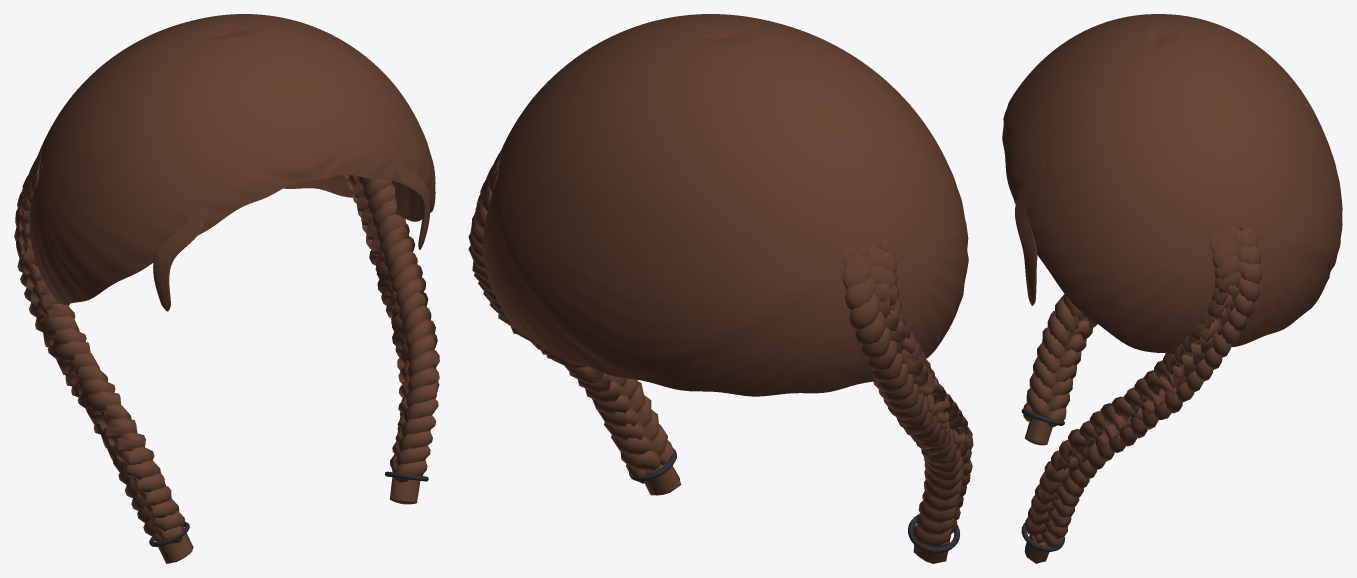
File: Feminine-twin-braids-covered-hair.glb
The picture shows the model from 3 angles, left to right: view 1: azimuth 30°, elevation 25°; view 2: azimuth 150°, elevation 25°; view 3: azimuth 270°, elevation 25°; orthographic projection. The views are drawn at different scales.
Visible parts, largest first — view 1: 226 hair / Hair / chestnut226; view 2: 226 hair / Hair / chestnut226, 226 hair / Hair / ties226; view 3: 226 hair / Hair / chestnut226, 226 hair / Hair / ties226.
Part boxes in pixels (x1,y1,x2,y2): 226 hair / Hair / chestnut226: (14, 14, 439, 563); 226 hair / Hair / chestnut226: (468, 14, 973, 563); 226 hair / Hair / ties226: (629, 448, 959, 553); 226 hair / Hair / chestnut226: (1002, 14, 1342, 563); 226 hair / Hair / ties226: (1021, 409, 1064, 551).
Size of the model in its own units: 1 by 1.18 by 0.7812.
